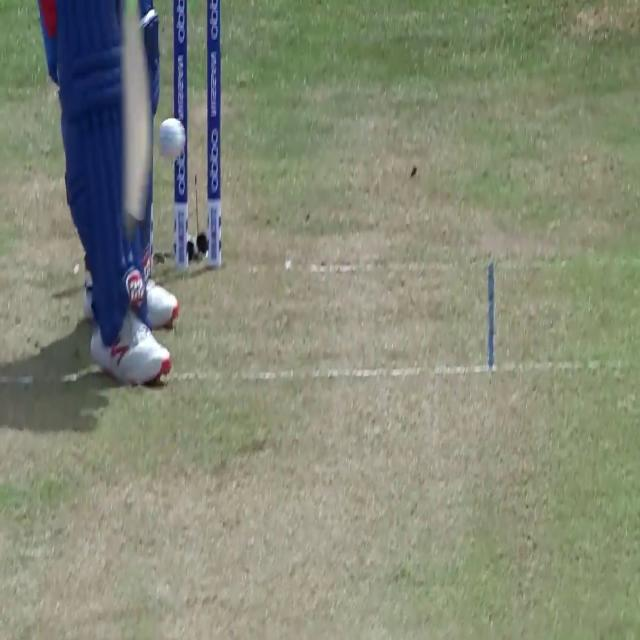ball: (157, 116, 186, 160)
